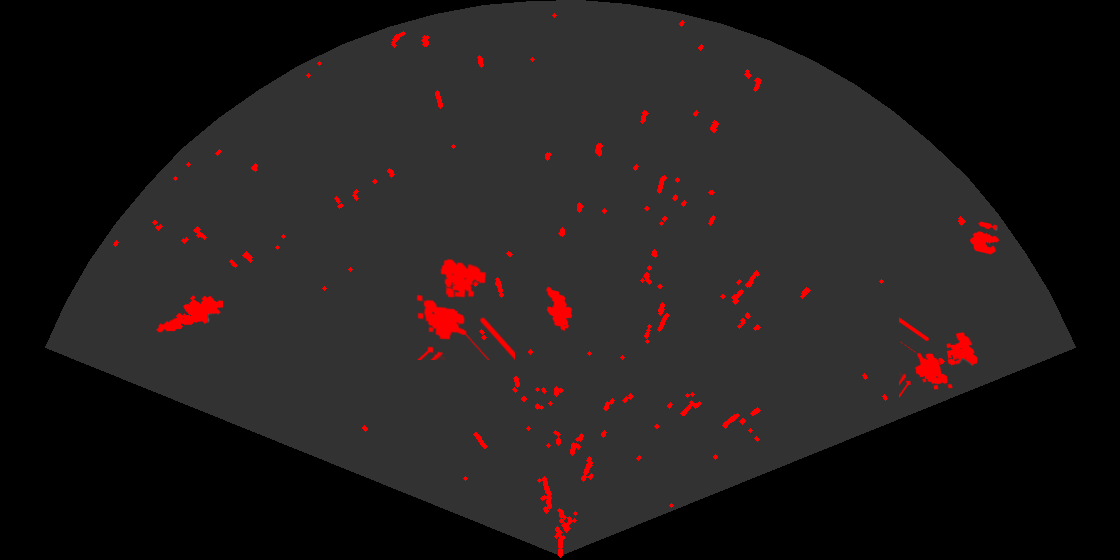AUV: (545, 285, 574, 332)
ball: (968, 220, 1001, 256)
cage: (415, 257, 515, 360), (899, 316, 979, 399)
frogman: (155, 294, 223, 334)
